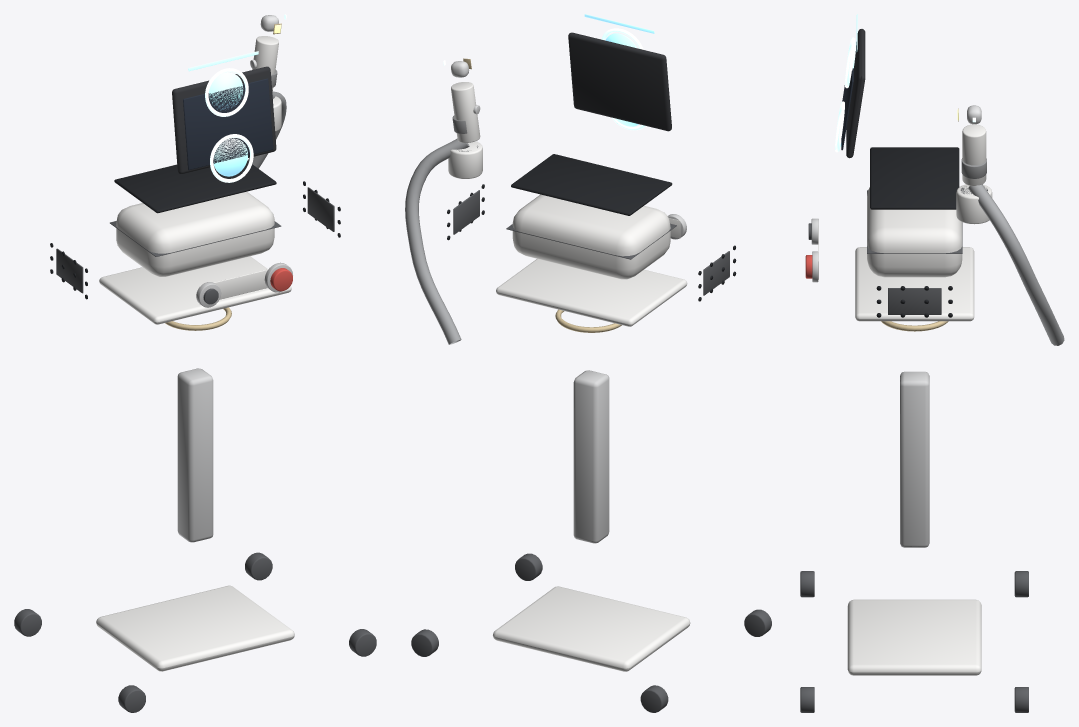
Rendered from aurum-laser-machine-v2-backup.glb.
3 renders of one model, left to right at view 1: azimuth 30°, elevation 25°; view 2: azimuth 150°, elevation 25°; view 3: azimuth 270°, elevation 25°, orthographic. The views are drawn at different scales.
Visible parts, largest first — view 1: CartBase, Body, Column, ScreenPanel, TopPlate, TopPanel, ScreenBezel, UI_Disk_1, FrontPanel, UI_Disk_0, VentR_Inset, HpHandle (+7 smaller); view 2: CartBase, Body, ScreenBezel, TopPlate, Column, TopPanel, Hose, HpHandle, DockCup, VentR_Inset, VentL_Inset, Wheel_0 (+3 smaller); view 3: CartBase, Body, TopPanel, Column, TopPlate, Hose, ScreenBezel, VentR_Inset, HpHandle, DockCup.
Boxes of the visible parts, bbox=[...] form: CartBase: bbox=[96, 585, 294, 671]; Body: bbox=[116, 191, 274, 276]; Column: bbox=[177, 368, 213, 542]; ScreenPanel: bbox=[183, 78, 273, 170]; TopPlate: bbox=[99, 256, 291, 324]; TopPanel: bbox=[114, 161, 276, 213]; ScreenBezel: bbox=[172, 66, 276, 173]; UI_Disk_1: bbox=[213, 138, 247, 176]; FrontPanel: bbox=[199, 269, 267, 299]; UI_Disk_0: bbox=[209, 72, 243, 110]; VentR_Inset: bbox=[307, 187, 334, 231]; HpHandle: bbox=[252, 36, 278, 93]; CartBase: bbox=[493, 586, 690, 671]; Body: bbox=[512, 194, 670, 279]; ScreenBezel: bbox=[568, 32, 671, 131]; TopPlate: bbox=[496, 259, 687, 326]; Column: bbox=[573, 370, 609, 543]; TopPanel: bbox=[511, 154, 672, 215]; Hose: bbox=[405, 138, 469, 344]; HpHandle: bbox=[451, 82, 480, 142]; DockCup: bbox=[448, 141, 482, 178]; VentR_Inset: bbox=[453, 190, 479, 234]; VentL_Inset: bbox=[703, 251, 729, 295]; Wheel_0: bbox=[744, 609, 771, 636]; CartBase: bbox=[847, 599, 981, 675]; Body: bbox=[867, 186, 962, 277]; TopPanel: bbox=[870, 147, 959, 209]; Column: bbox=[900, 371, 929, 547]; TopPlate: bbox=[855, 247, 974, 321]; Hose: bbox=[968, 184, 1064, 345]; ScreenBezel: bbox=[846, 29, 865, 158]; VentR_Inset: bbox=[888, 288, 941, 314]; HpHandle: bbox=[962, 124, 986, 185]; DockCup: bbox=[956, 184, 992, 224].
Size of the model in its own units: 0.5252 by 1.15 by 0.4435.
